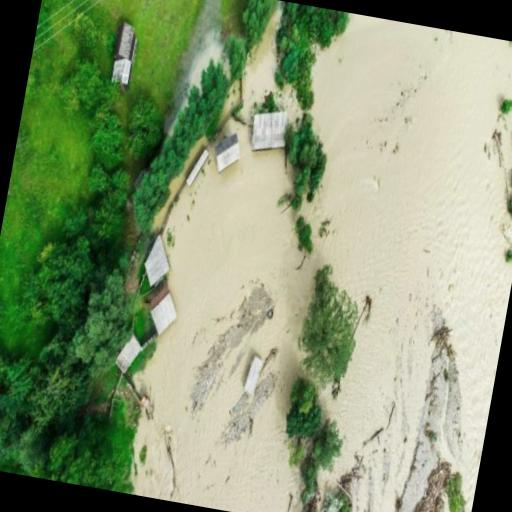flood: (131, 9, 512, 512), (484, 112, 512, 191)
house: (248, 106, 288, 157), (208, 130, 246, 177), (146, 286, 180, 338), (111, 22, 140, 62)
